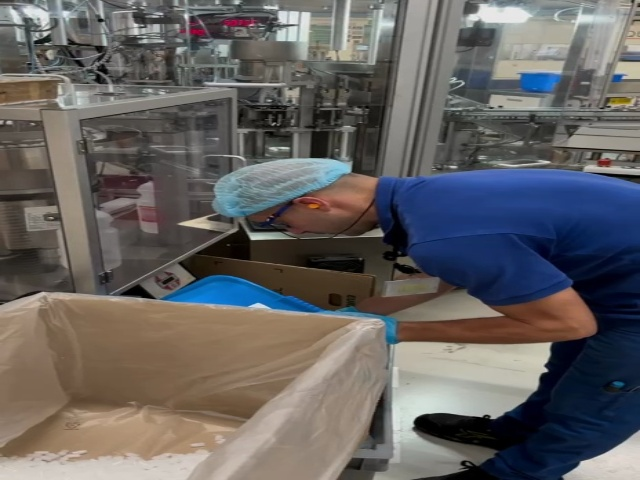Earplug: (292, 195, 331, 215)
Hairnet: (214, 156, 344, 217)
No_Helmet: (214, 158, 346, 214)
No_Vest: (379, 173, 640, 309)
Person: (213, 157, 640, 480)
Safety_Goggles: (256, 187, 303, 236)
